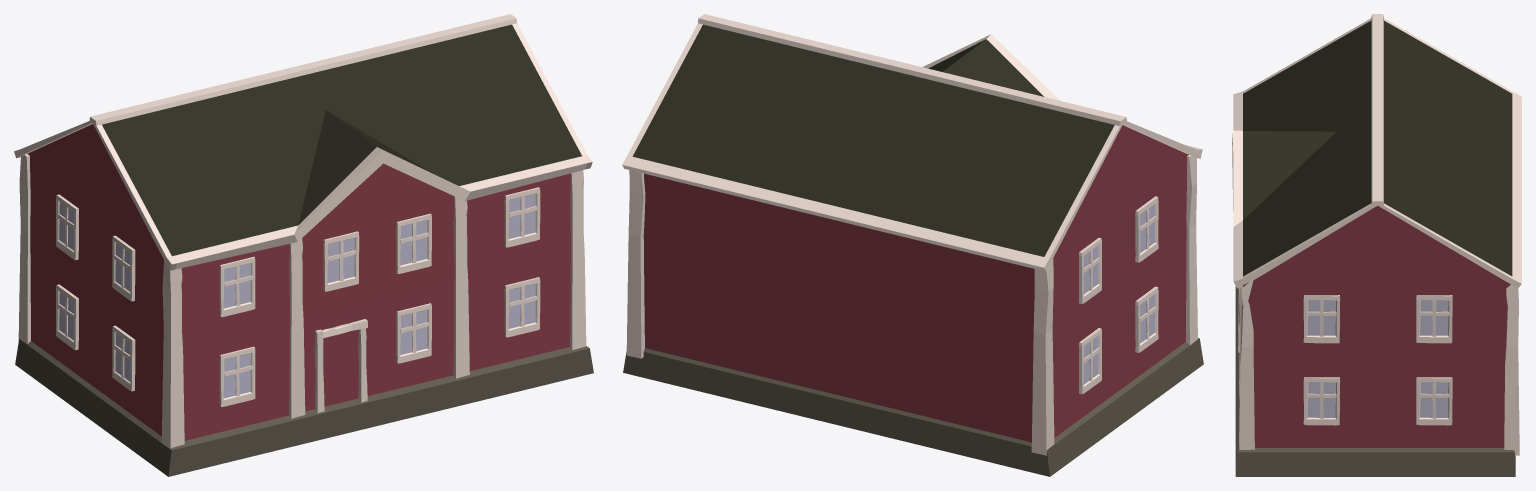
File: house_swedish 1.fbx
3 views of the same model, side by side, from view 1: azimuth 30°, elevation 25°; view 2: azimuth 150°, elevation 25°; view 3: azimuth 270°, elevation 25° (orthographic). The views are drawn at different scales.
Parts seen in each view (by area): view 1: Cube.087; view 2: Cube.087; view 3: Cube.087.
Boxes of the visible parts, x1,y1,x2,y2 form: Cube.087: (14,14,593,476); Cube.087: (622,14,1203,476); Cube.087: (1232,14,1521,476).
Size of the model in its own units: 11.03 by 7.13 by 7.45.
